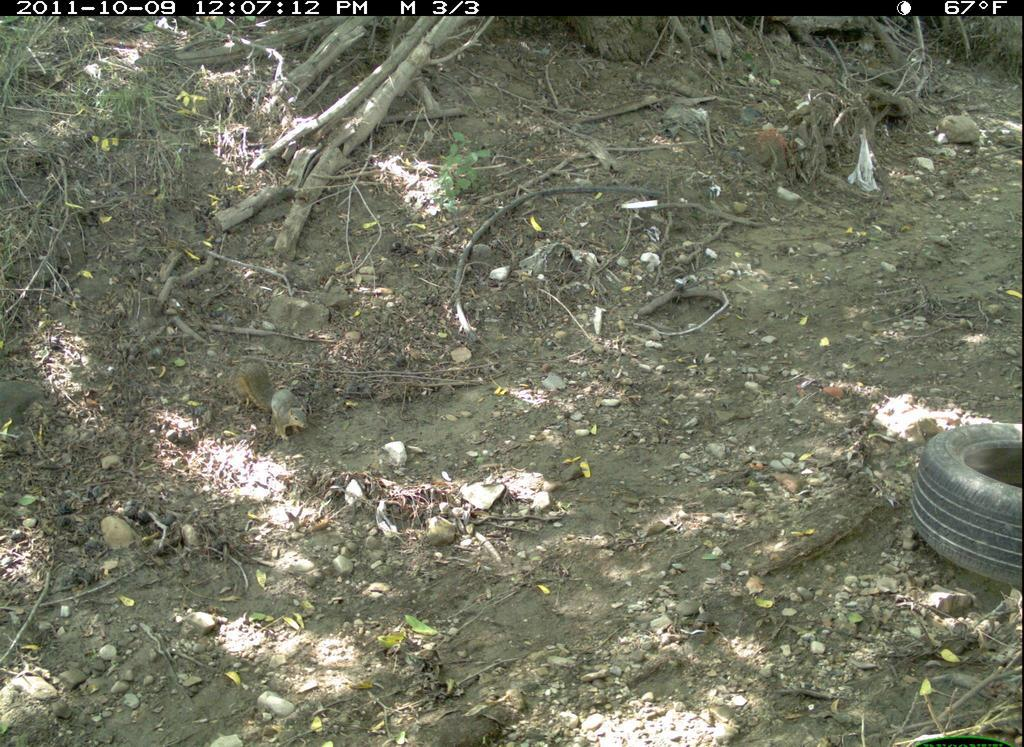squirrel: (236, 355, 322, 449)
